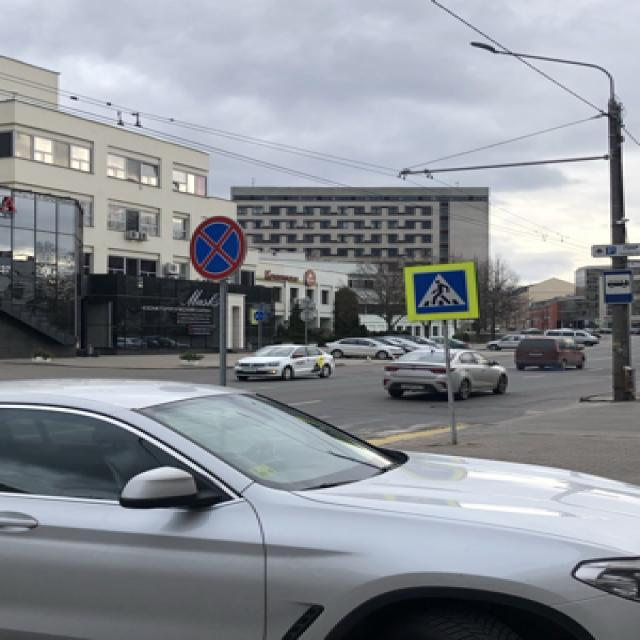crosswalk_sign: (409, 268, 473, 316)
